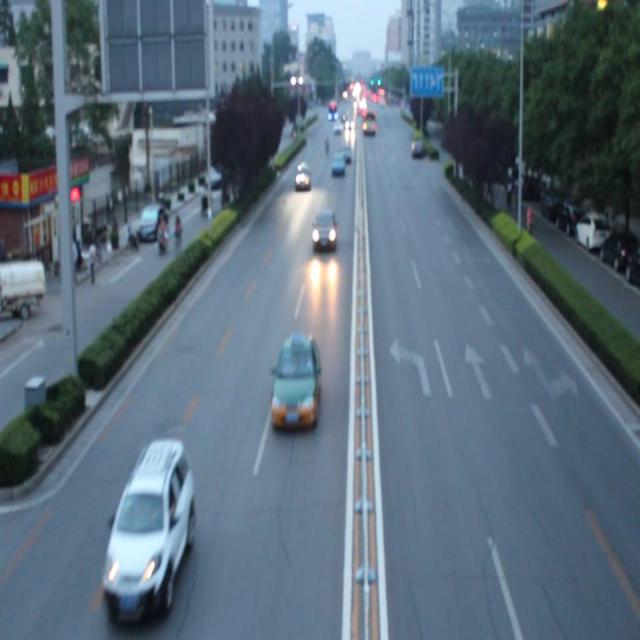car: (101, 436, 196, 606), (270, 333, 322, 433), (311, 209, 338, 251)
